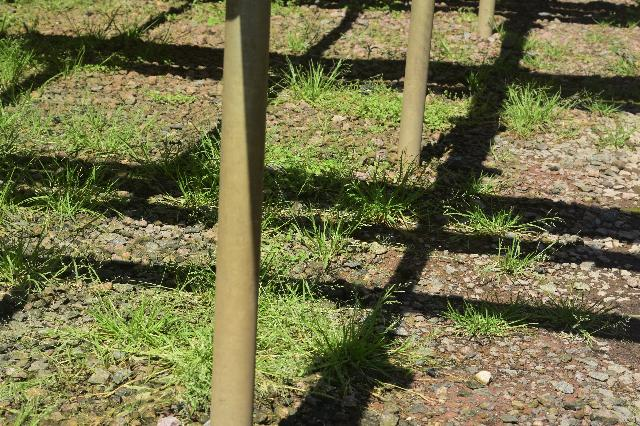MalezaMontesDelPlata: (87, 264, 214, 409), (257, 282, 407, 401), (117, 123, 222, 219), (0, 155, 114, 234), (345, 155, 446, 225), (48, 100, 164, 155), (0, 229, 91, 296), (473, 68, 563, 135), (267, 132, 348, 202), (430, 291, 534, 339), (446, 194, 560, 236), (269, 51, 349, 110), (342, 77, 404, 133), (424, 85, 474, 137), (493, 241, 556, 281)
